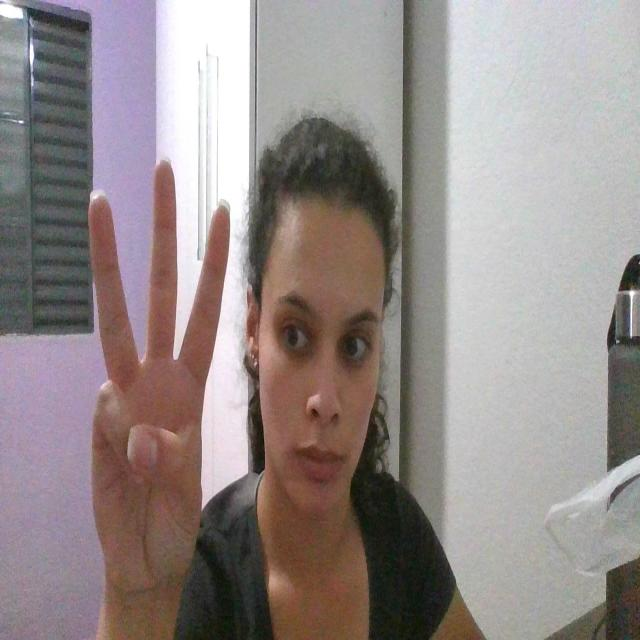W: (79, 144, 232, 603)
